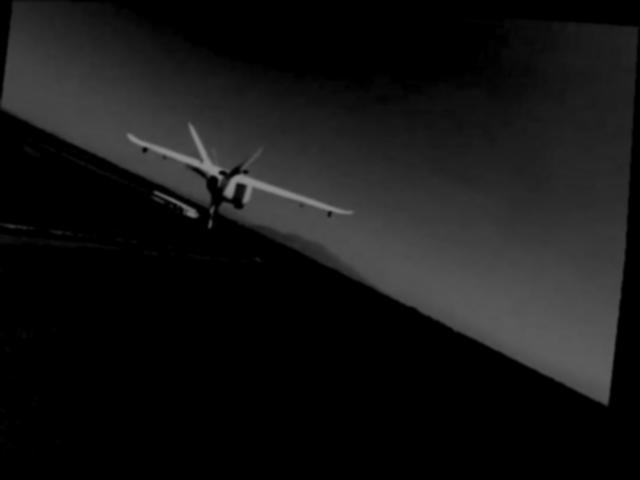hedef: (112, 118, 370, 240)
